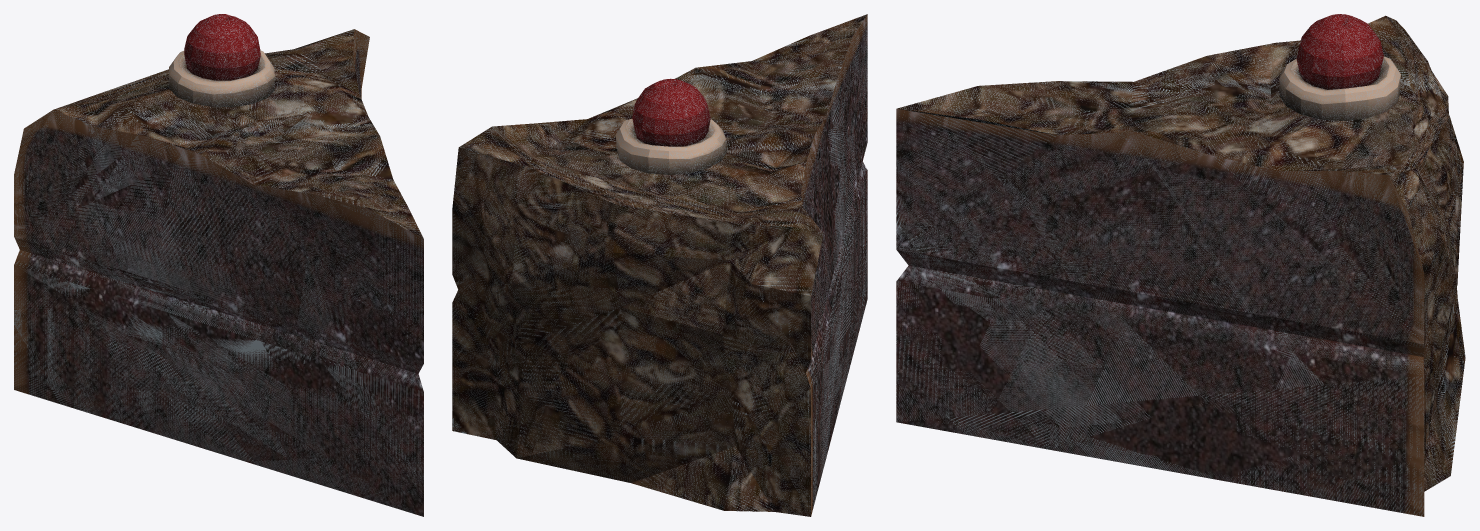
The picture shows the model from 3 angles, left to right: view 1: azimuth 30°, elevation 25°; view 2: azimuth 150°, elevation 25°; view 3: azimuth 270°, elevation 25°; orthographic projection. The views are drawn at different scales.
Parts seen in each view (by area): view 1: skpAB43 (×3); view 2: skpAB43 (×3); view 3: skpAB43 (×3).
Part boxes in pixels (x1=…): skpAB43 (×3): x1=14, y1=14, x2=423, y2=516; skpAB43 (×3): x1=452, y1=14, x2=867, y2=516; skpAB43 (×3): x1=896, y1=14, x2=1465, y2=516.
Bounding box in the file's own units: 12.86 × 16 × 12.43.
3 materials, 2 textured.
